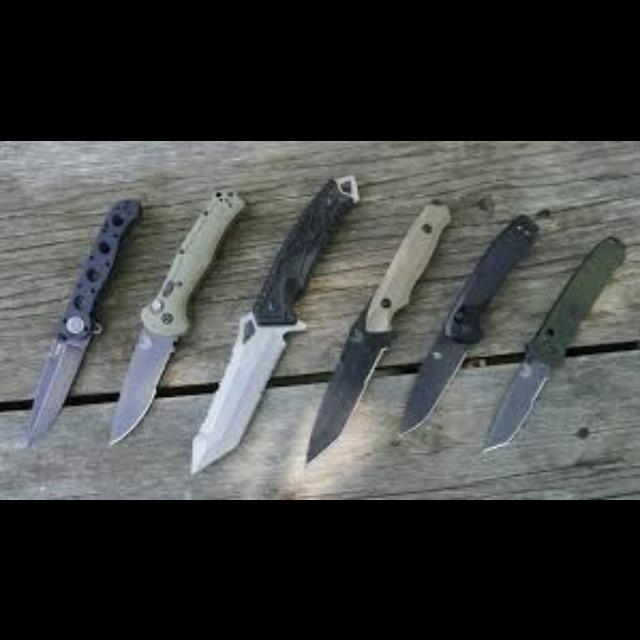knife: (188, 172, 360, 473), (304, 201, 452, 464), (108, 188, 246, 444), (396, 209, 544, 435), (479, 232, 626, 450), (23, 196, 140, 446)
